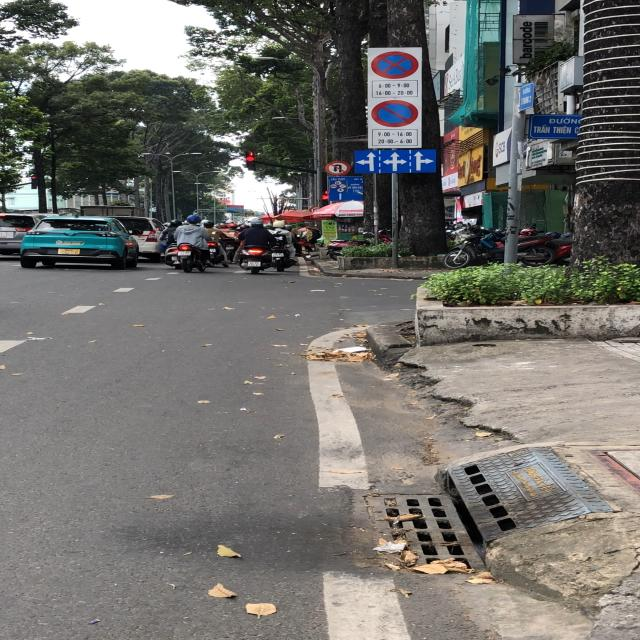Bien bao cam do xe: (372, 99, 417, 128)
Bien bao cam dung xe va do xe: (368, 50, 423, 80)
Bien bao cam quay dau xe: (323, 160, 350, 175)
